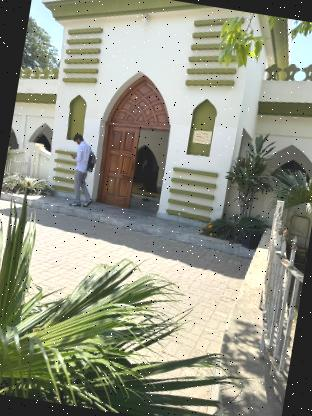bag: (83, 148, 99, 174)
door: (87, 66, 186, 218)
person: (61, 127, 100, 212)
